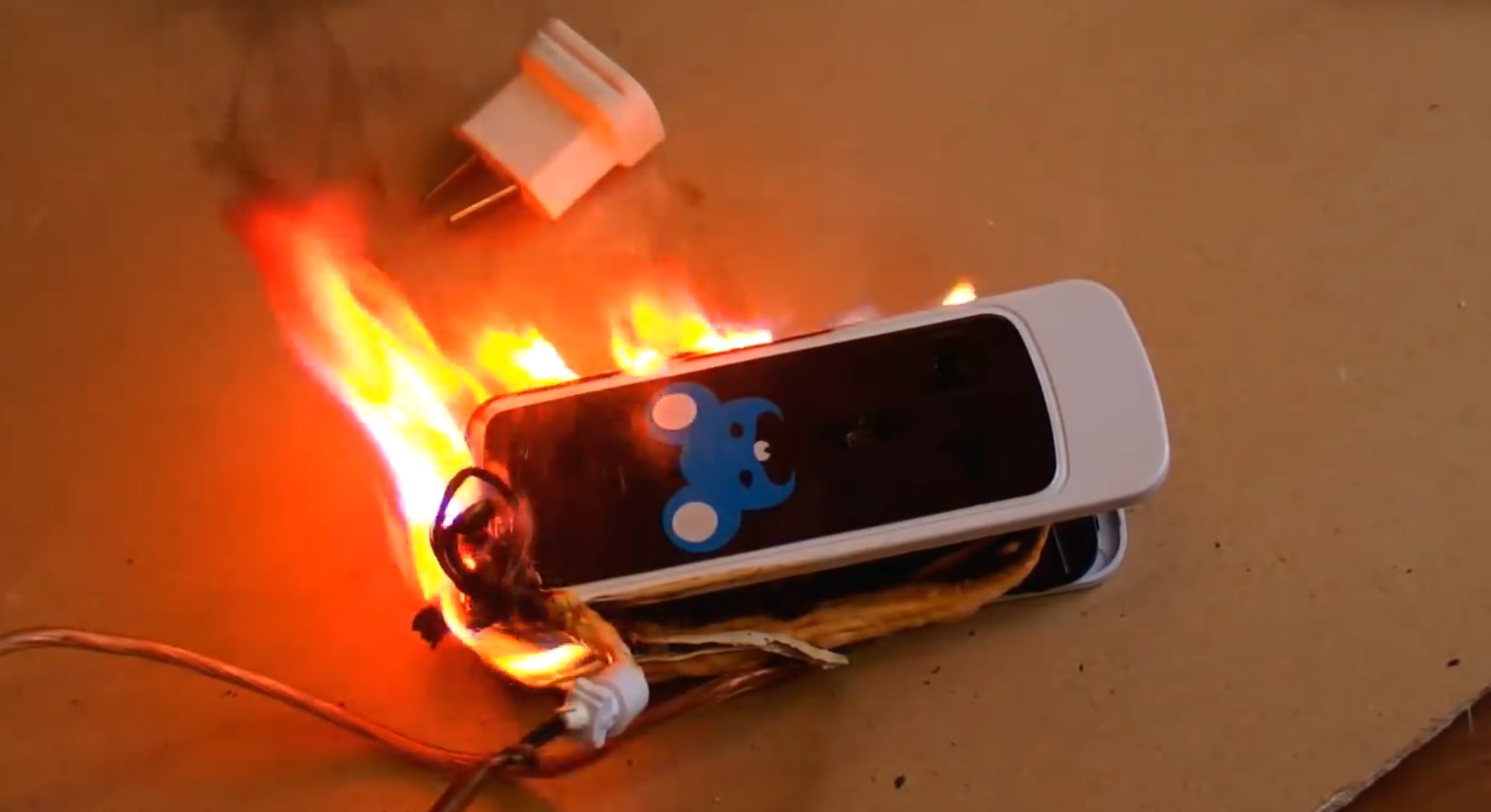Fire: (187, 162, 1088, 691)
